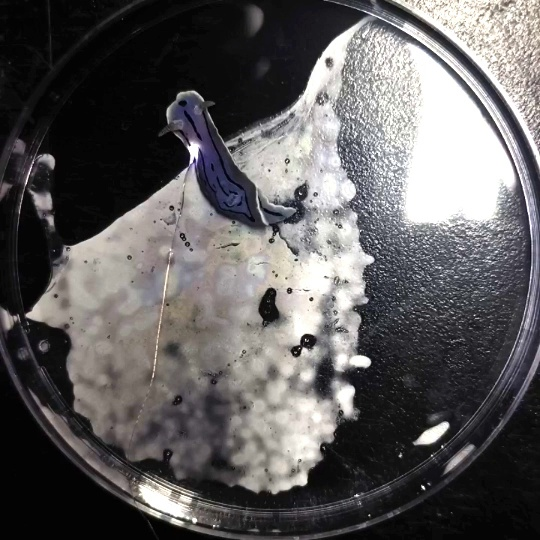sea-slug: (73, 106, 255, 221)
